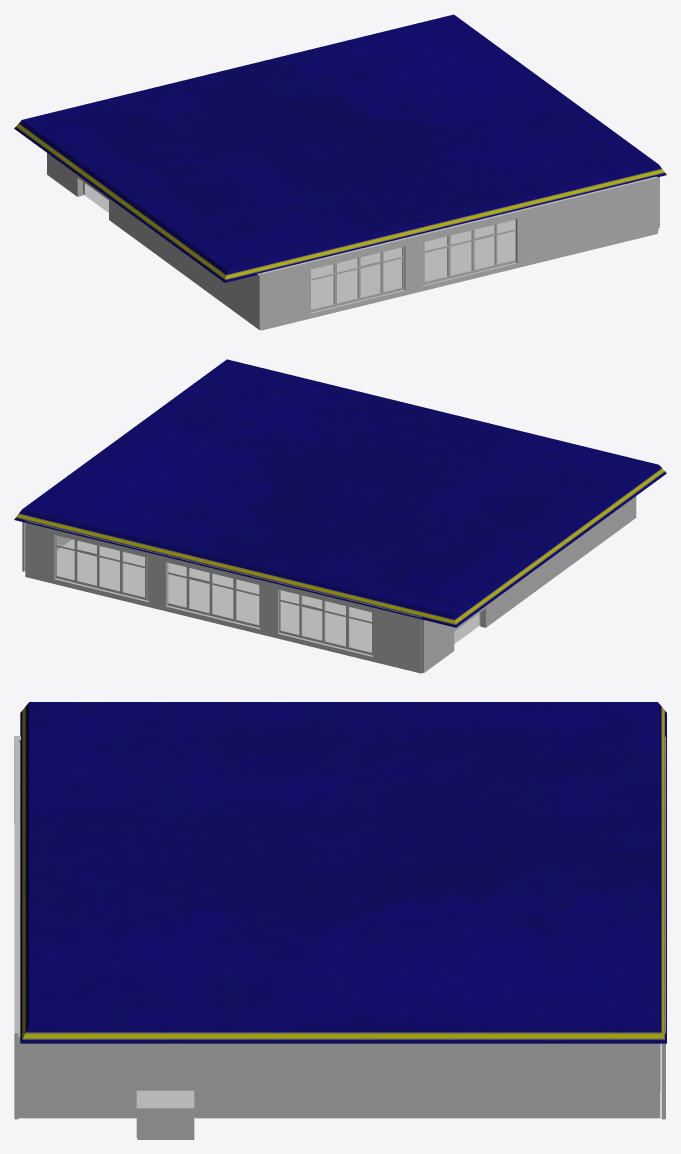
The model's file is horror_mall.fbx.
The picture shows the model from 3 angles, top to bottom: view 1: azimuth 30°, elevation 25°; view 2: azimuth 150°, elevation 25°; view 3: azimuth 270°, elevation 25°; orthographic projection. The views are drawn at different scales.
Visible parts, largest first — view 1: pCube718, pCube716, pCube652, pCube651, pCube657, pCube656; view 2: pCube718, pCube715, pCube652, pCube651, pCube654, pCube655, pCube653; view 3: pCube718, pCube717, pCube716, pCube661, pCube652, pCube658, pCube715.
Part boxes in pixels (left/top/right/bottom): pCube718: left=14, top=14, right=666, bottom=282; pCube716: left=260, top=176, right=657, bottom=330; pCube652: left=83, top=178, right=658, bottom=312; pCube651: left=47, top=153, right=264, bottom=329; pCube657: left=310, top=246, right=404, bottom=312; pCube656: left=423, top=219, right=515, bottom=284; pCube718: left=14, top=359, right=666, bottom=627; pCube715: left=25, top=520, right=422, bottom=673; pCube652: left=57, top=535, right=480, bottom=655; pCube651: left=421, top=496, right=636, bottom=672; pCube654: left=167, top=562, right=260, bottom=627; pCube655: left=55, top=535, right=147, bottom=600; pCube653: left=279, top=589, right=372, bottom=655; pCube718: left=20, top=702, right=666, bottom=1043; pCube717: left=22, top=1033, right=659, bottom=1118; pCube716: left=14, top=736, right=18, bottom=1119; pCube661: left=139, top=1111, right=194, bottom=1137; pCube652: left=18, top=742, right=660, bottom=1118; pCube658: left=137, top=1090, right=194, bottom=1110; pCube715: left=661, top=736, right=665, bottom=1119.
Size of the model in its own units: 126 by 16.81 by 101.
